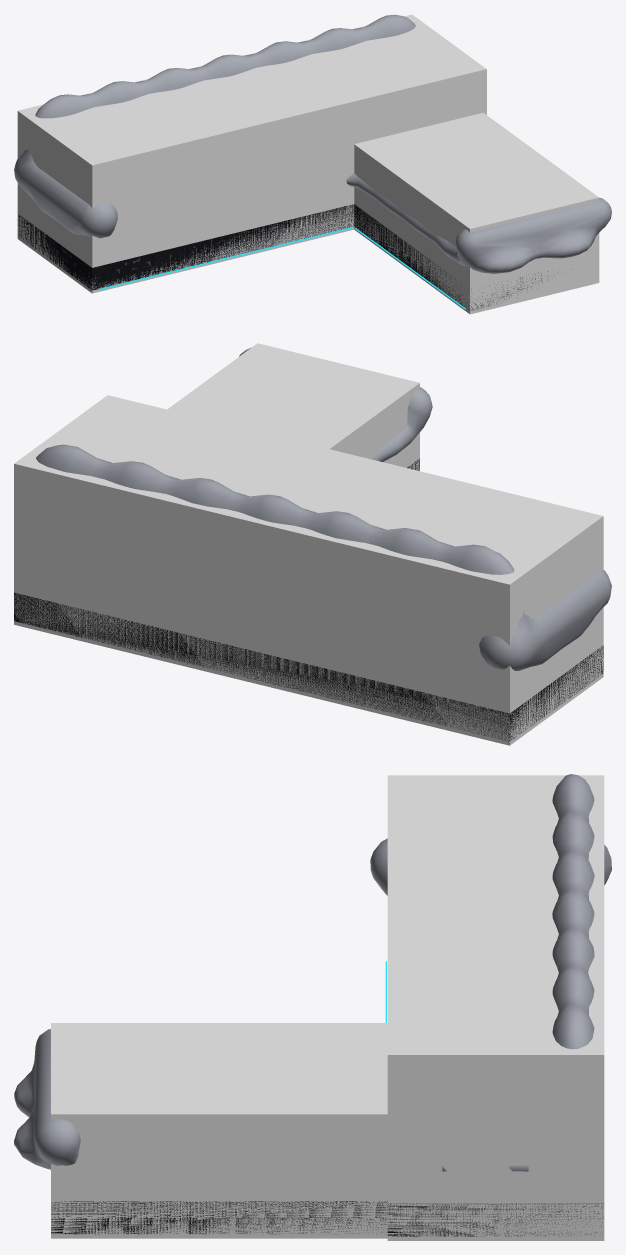
Rendered from Furn_Sofa_Tufted_L.001.gltf.
3 views of the same model, one above another, from view 1: azimuth 30°, elevation 25°; view 2: azimuth 150°, elevation 25°; view 3: azimuth 270°, elevation 25° (orthographic). The views are drawn at different scales.
Parts seen in each view (by area): view 1: Furn_Sofa_Tufted_L.001_COL, Furn_Sofa_Tufted_L.001, Furn_Sofa_Tufted_L.001_COL1; view 2: Furn_Sofa_Tufted_L.001_COL, Furn_Sofa_Tufted_L.001, Furn_Sofa_Tufted_L.001_COL1; view 3: Furn_Sofa_Tufted_L.001_COL, Furn_Sofa_Tufted_L.001_COL1, Furn_Sofa_Tufted_L.001.
Part boxes in pixels (box(x1,y1,x2,y2)): Furn_Sofa_Tufted_L.001_COL: box(17, 14, 486, 293); Furn_Sofa_Tufted_L.001: box(14, 14, 611, 310); Furn_Sofa_Tufted_L.001_COL1: box(354, 112, 599, 314); Furn_Sofa_Tufted_L.001_COL: box(14, 395, 603, 745); Furn_Sofa_Tufted_L.001: box(14, 348, 611, 741); Furn_Sofa_Tufted_L.001_COL1: box(167, 343, 419, 470); Furn_Sofa_Tufted_L.001_COL: box(387, 775, 604, 1240); Furn_Sofa_Tufted_L.001_COL1: box(51, 1023, 387, 1238); Furn_Sofa_Tufted_L.001: box(14, 774, 611, 1236).
Size of the model in its own units: 3.04 by 1 by 2.62.
6 materials, 1 textured.
